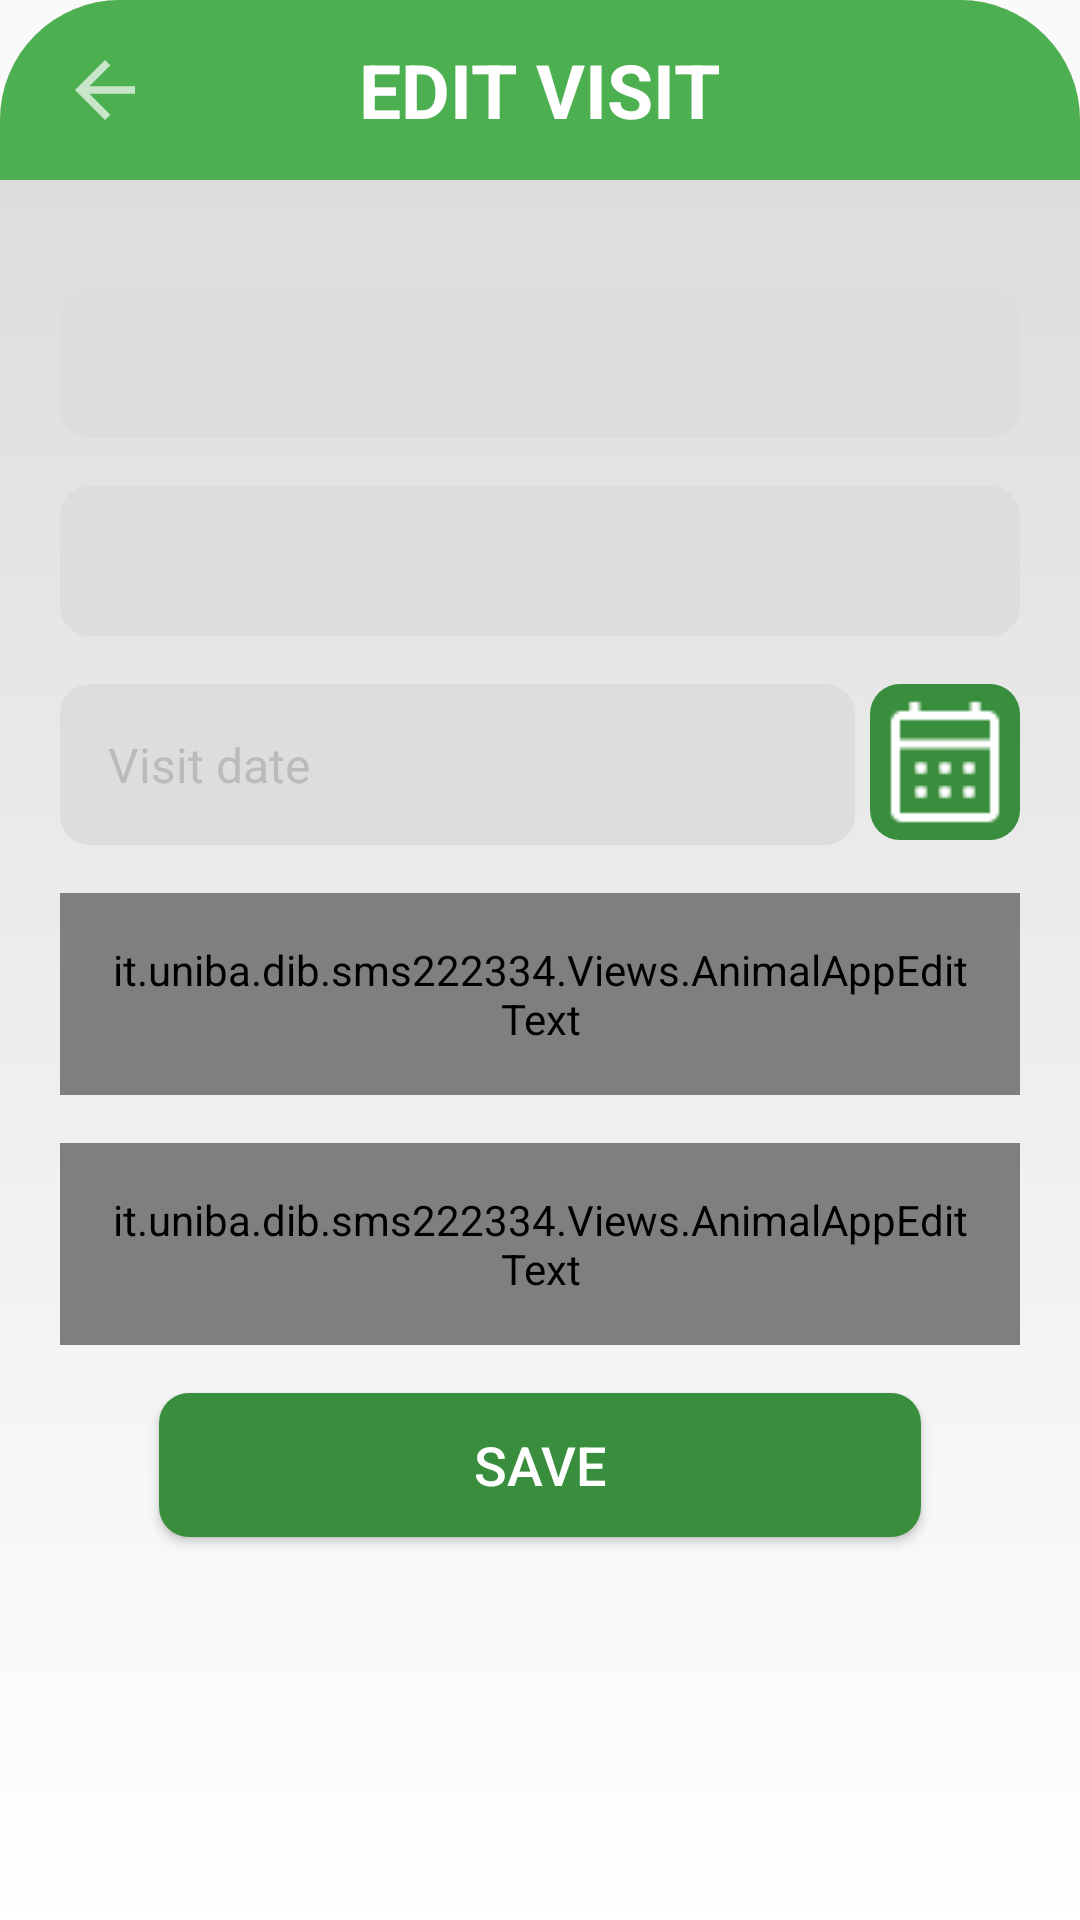

Where icons sit on this 1080px x 1920px app screen, as bbox=[x1, y1, x2, y2]:
arrow back: bbox=[75, 60, 135, 120]
calendar: bbox=[870, 684, 1020, 840]
